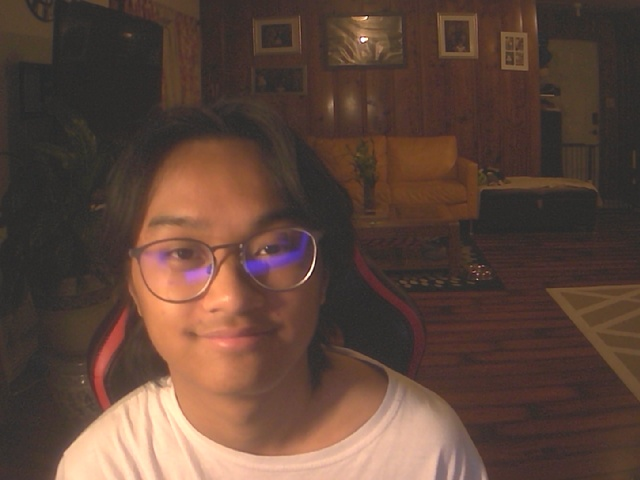happy: (94, 94, 356, 390)
